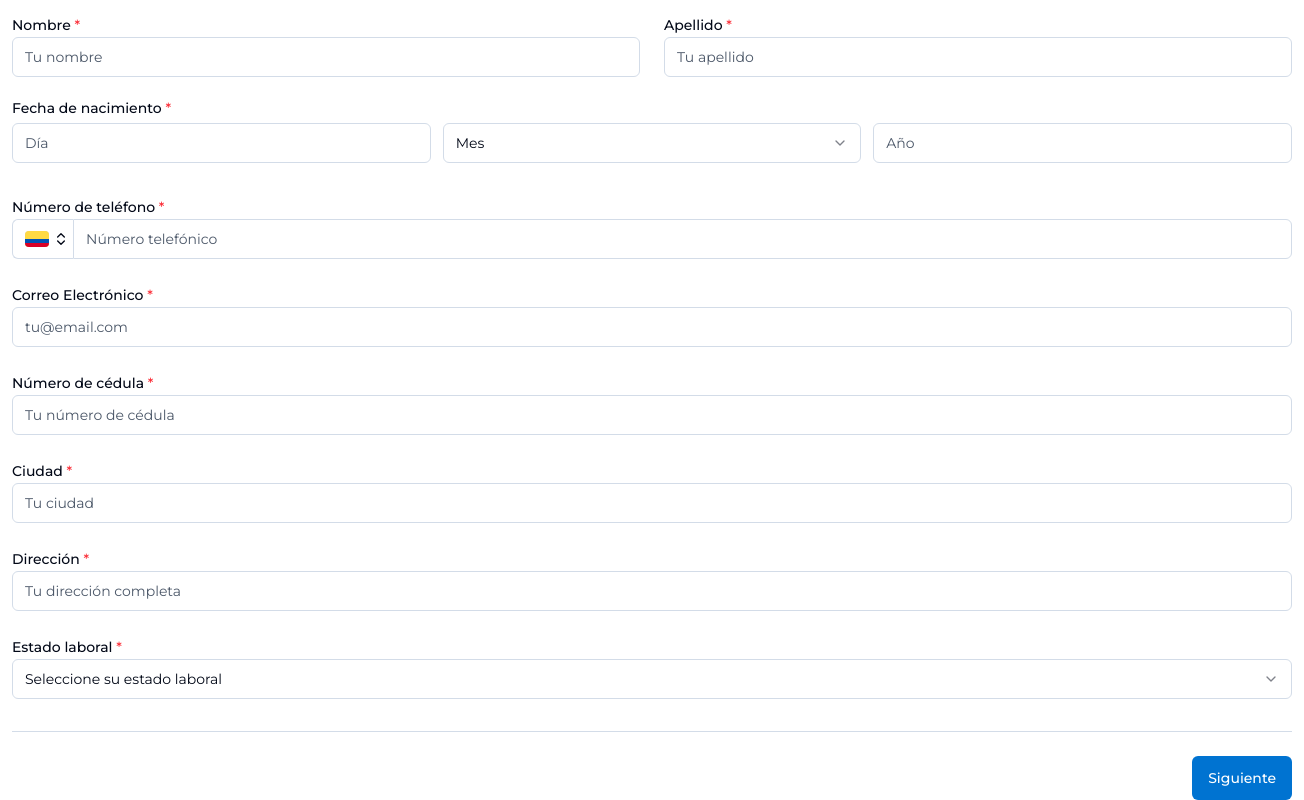
Test case: MultiStepQuoteForm — momento de la validación › removes an error on the change that fixes the field, and only that one
Later steps or results of the test are not shown.
(page scrolled)
Click the button "Siguiente" at (1242, 778), box [1192,756,1292,799]
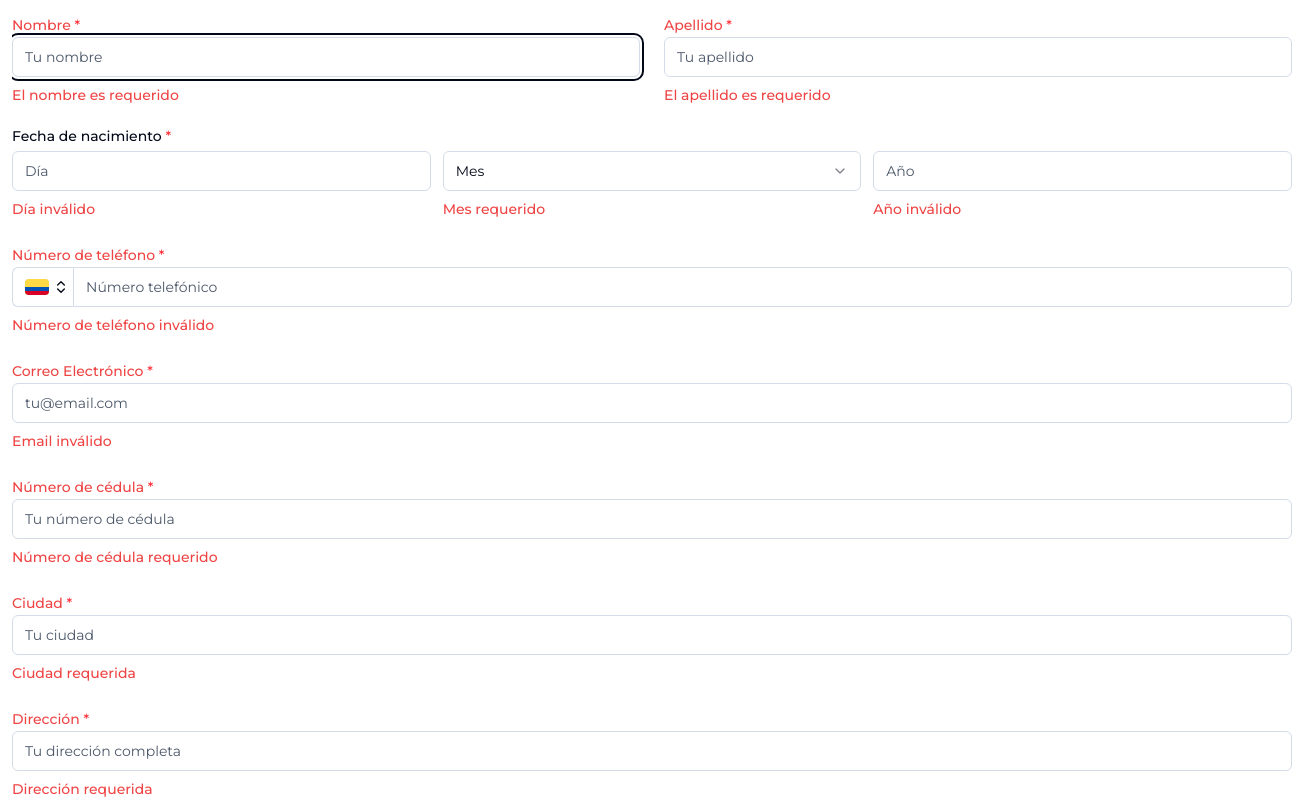
Result: the text "Dirección requerida" is shown at [12,780,153,798]
# Still focused: no blur is needed for the message to go away.
Type "Calle 1" into the field labelled "Dirección *" at (652, 751), box [12,731,1292,771]
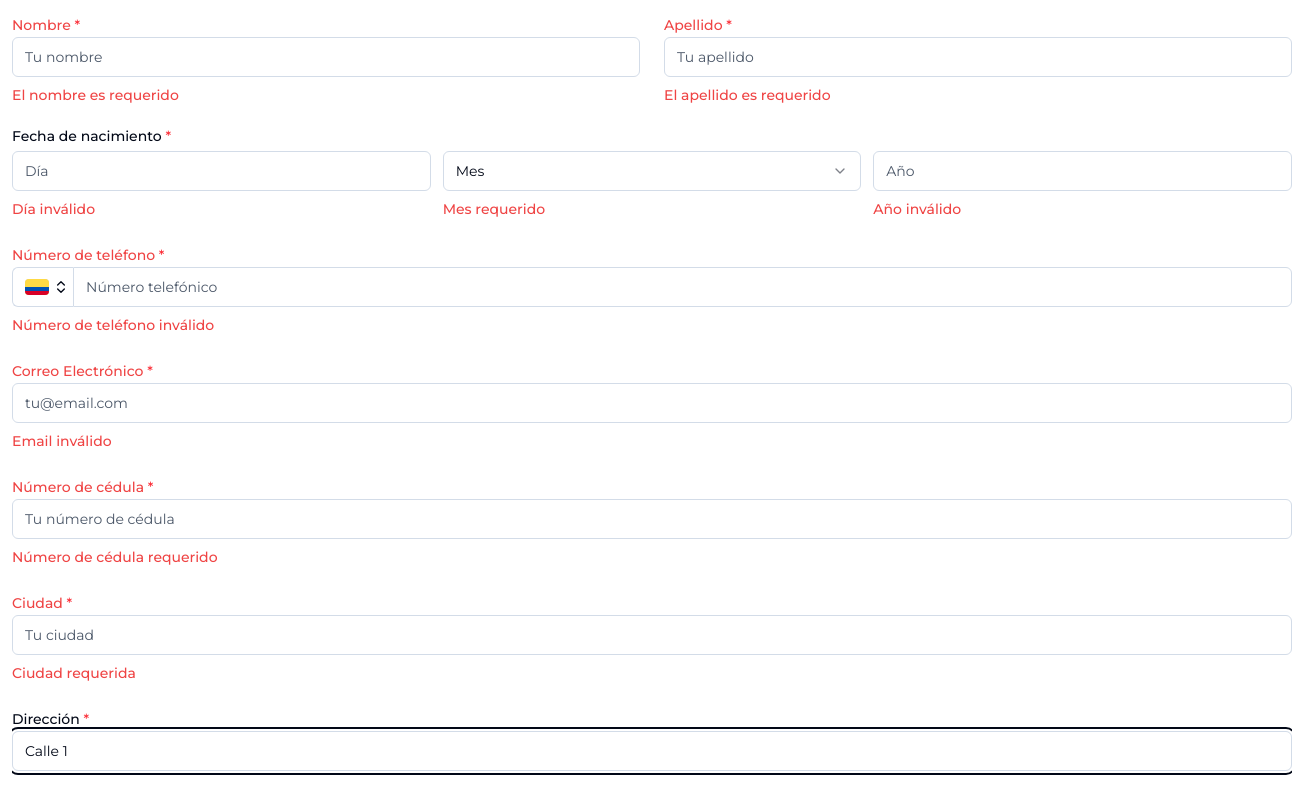
Result: the text "Ciudad requerida" is shown at [12,664,136,682]
Result: the text "Dirección requerida" is gone
